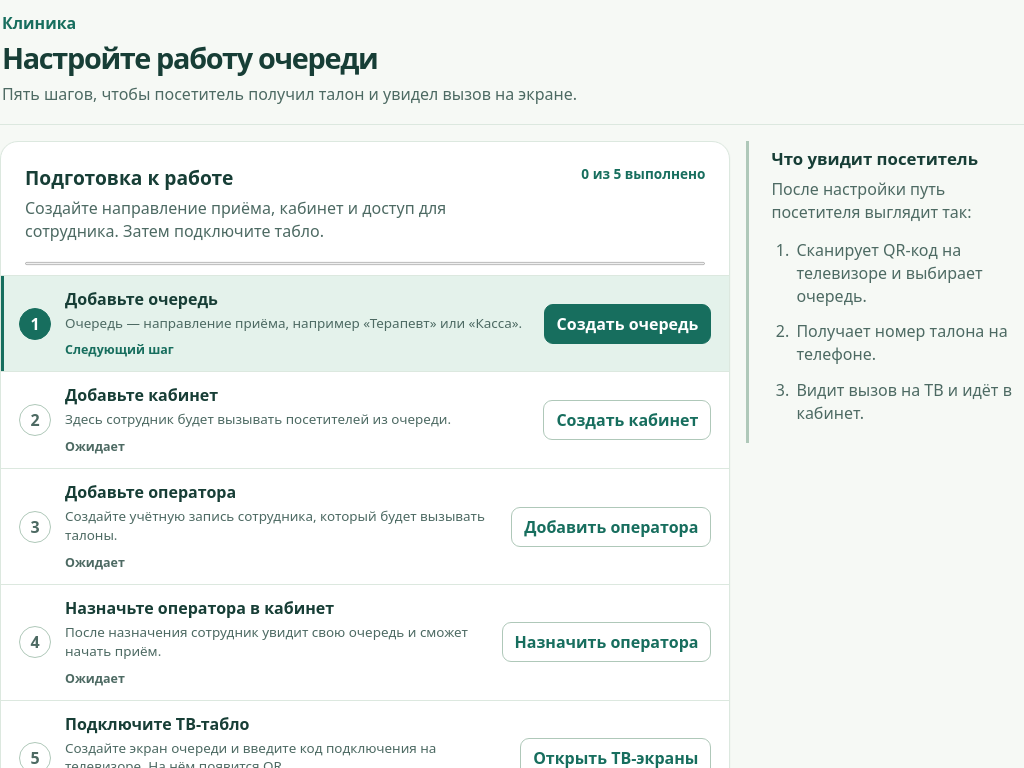
Test: guides a new administrator into creating the first queue
Expected: the heading "Настройте работу очереди" is shown, [2, 38, 377, 77]
Expected: the text "0 из 5 выполнено" is shown, [581, 164, 705, 183]
Click the link "Создать очередь" at x=628, y=324, box [544, 304, 711, 344]
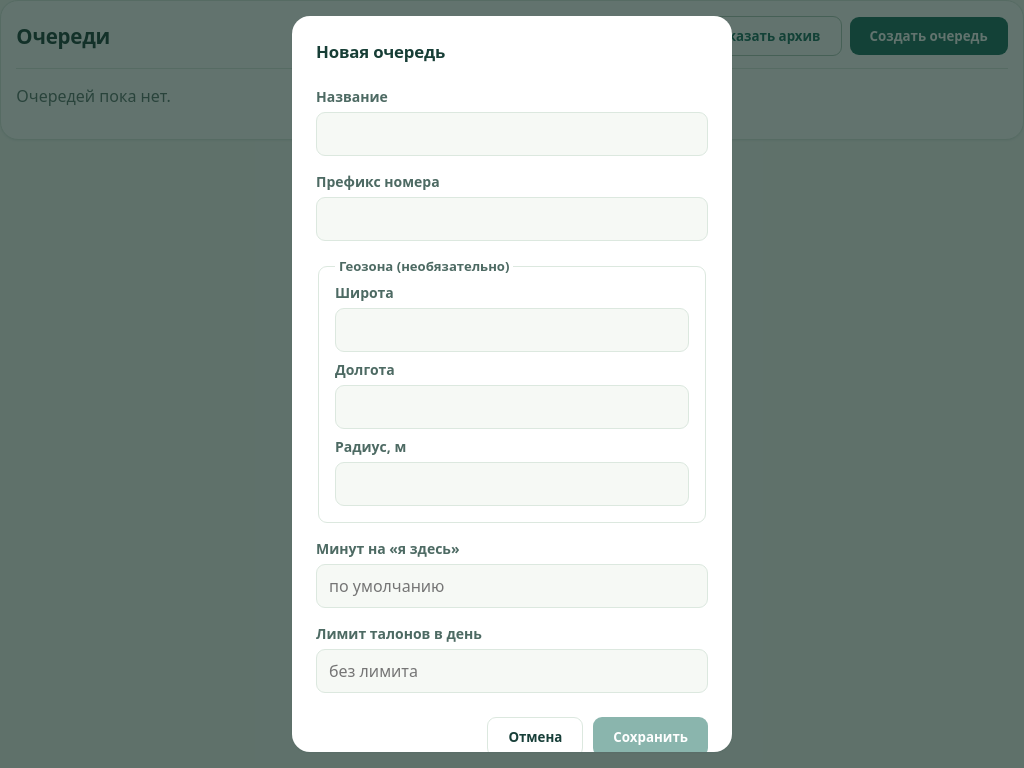
Result: the dialog is shown at [292, 16, 732, 752]
Result: the heading "Новая очередь" is shown at [316, 40, 445, 63]
